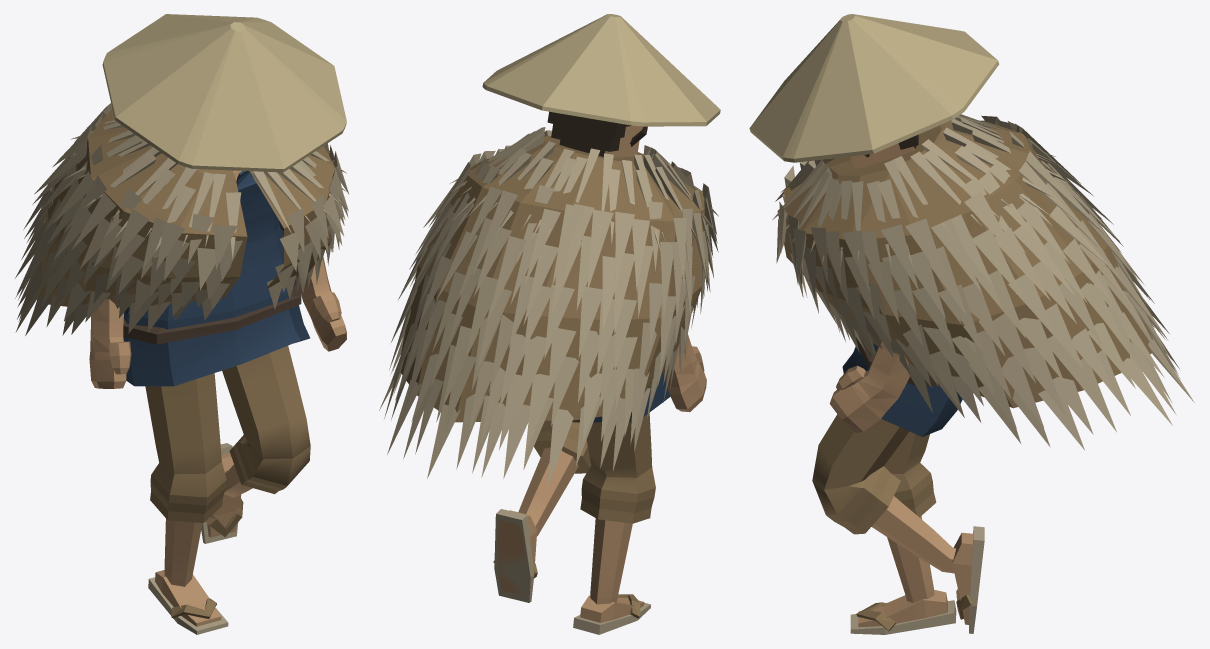
File: farmer-363820__walk6.glb
3 renders of one model, left to right at view 1: azimuth 30°, elevation 25°; view 2: azimuth 150°, elevation 25°; view 3: azimuth 270°, elevation 25°, orthographic. The views are drawn at different scales.
Visible parts, largest first — view 1: farmer-363820__walk6; view 2: farmer-363820__walk6; view 3: farmer-363820__walk6.
Part boxes in pixels (x1,y1,x2,y2): farmer-363820__walk6: [15, 14, 349, 634]; farmer-363820__walk6: [379, 14, 720, 634]; farmer-363820__walk6: [749, 14, 1194, 634].
Bounding box in the file's own units: 0.8667 × 1.83 × 1.19.
